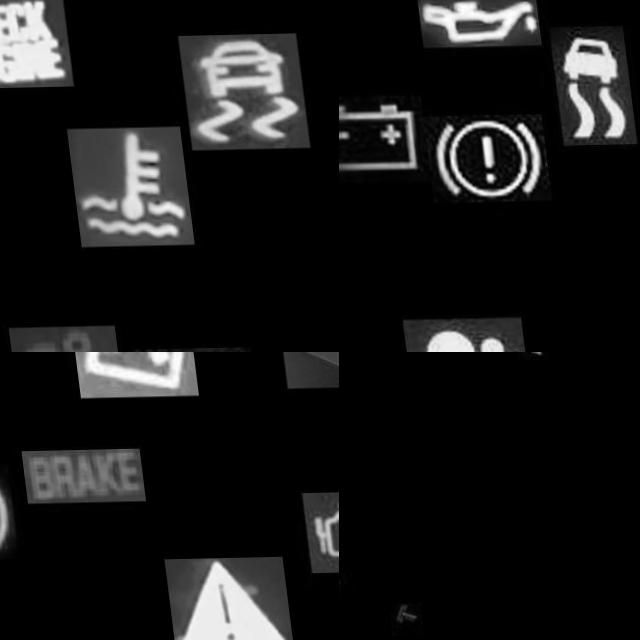Central Warning lamp: (157, 558, 285, 640)
Engine cooling system: (63, 128, 188, 248)
